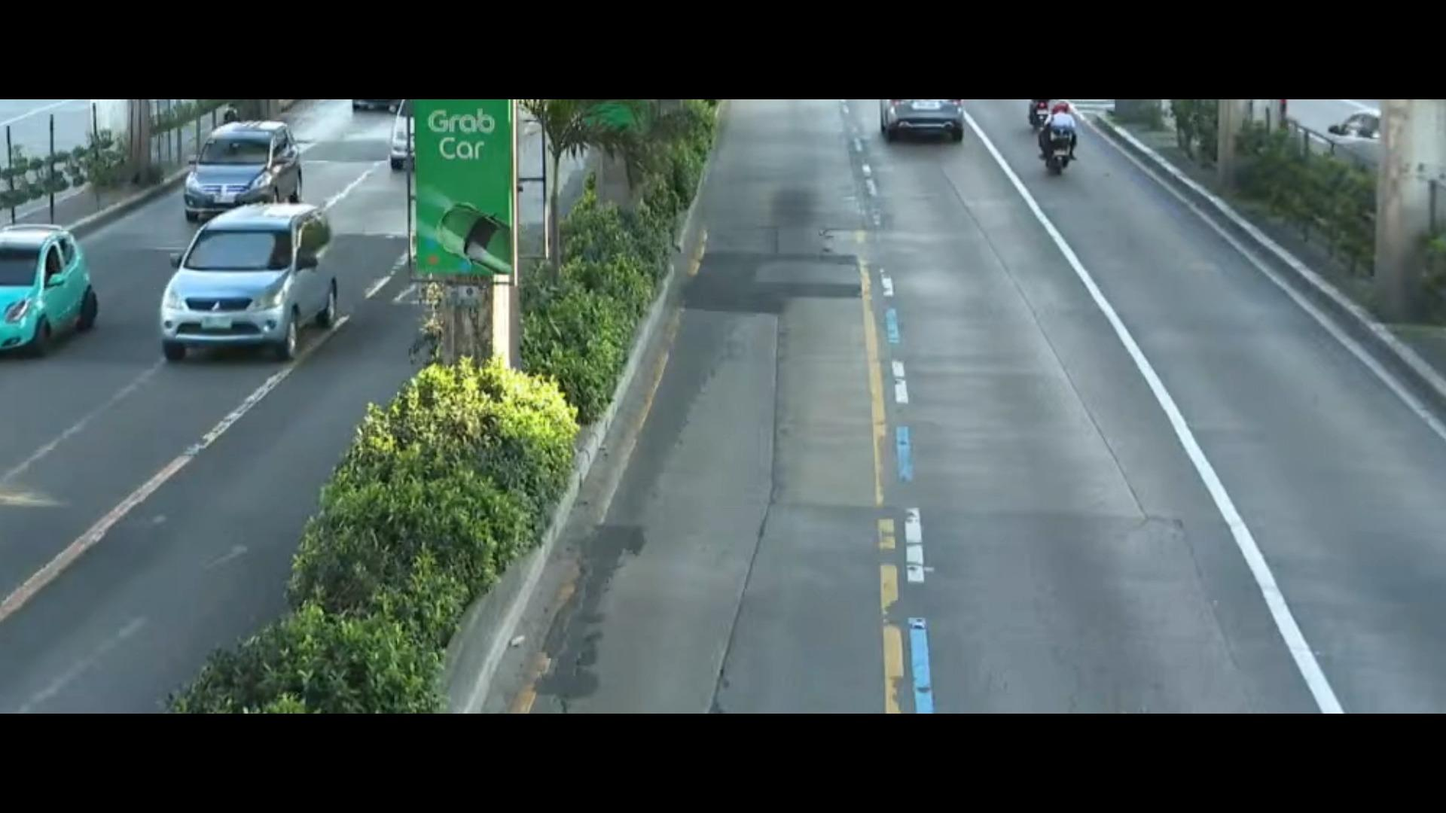Motorcycle: (1025, 110, 1087, 172)
SUV: (140, 194, 371, 384), (175, 119, 307, 221)
Sedan: (0, 219, 98, 373)
